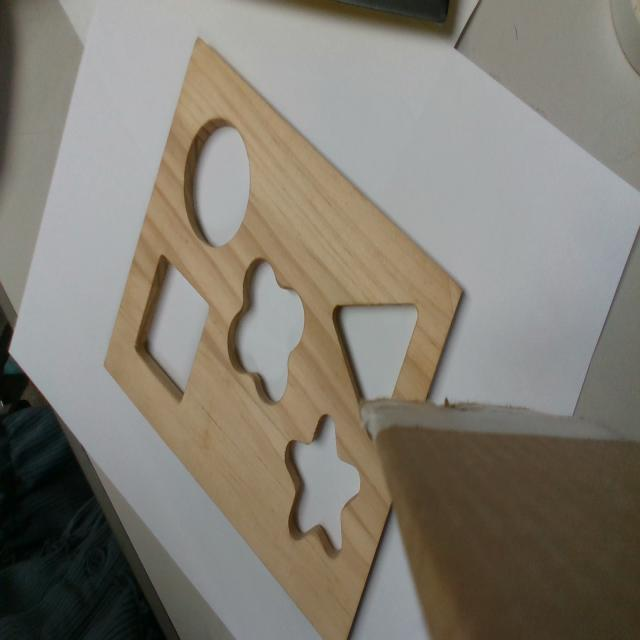circle: (184, 114, 250, 244)
flower: (227, 255, 306, 402)
square: (134, 250, 209, 401)
star: (284, 411, 364, 556)
triangle: (329, 298, 419, 445)
